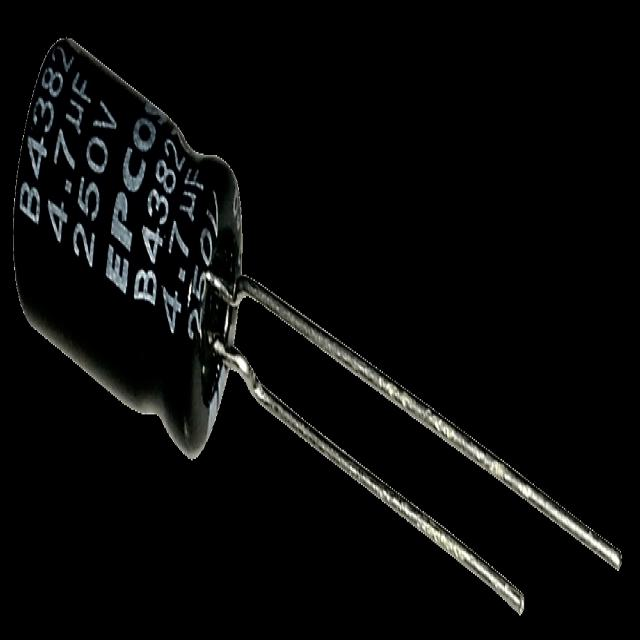Capacitor: (12, 37, 625, 620)
